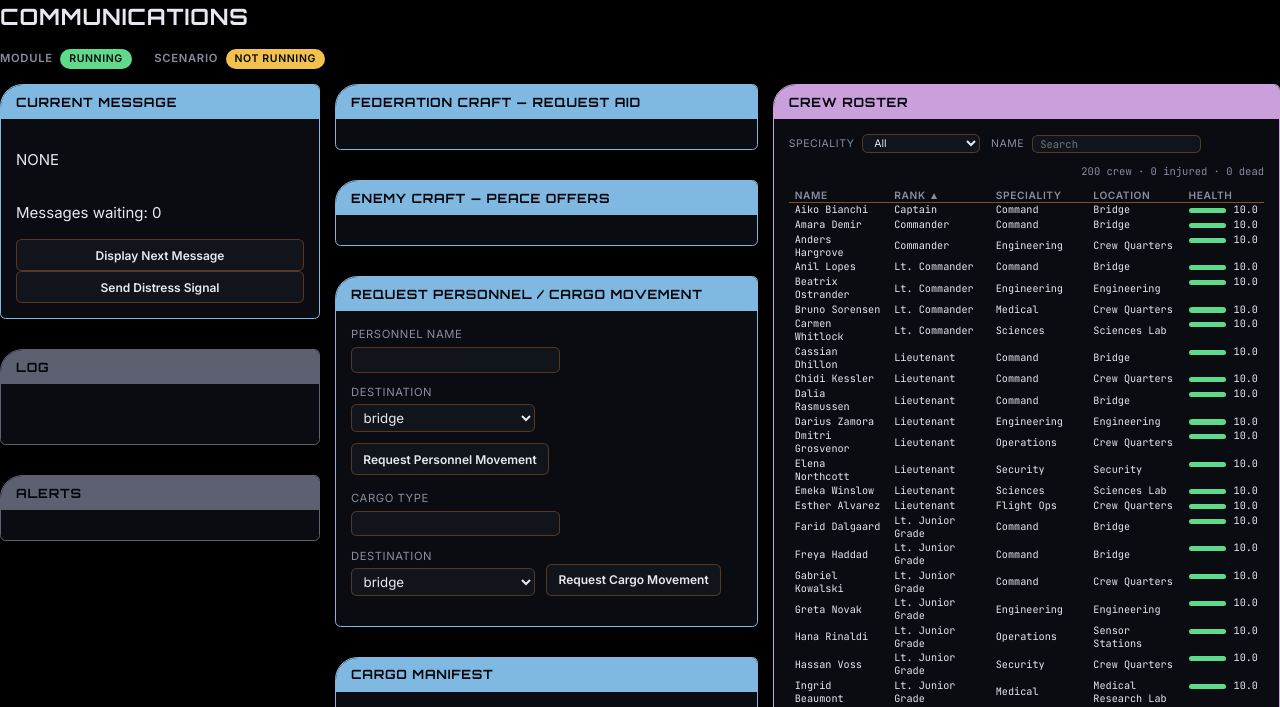
CommunicationsStation › sends a distress message by clicking a button (point-and-click, no typed command)
Click the button "Send Distress Signal": {"x": 160, "y": 287} [16,271,304,303]
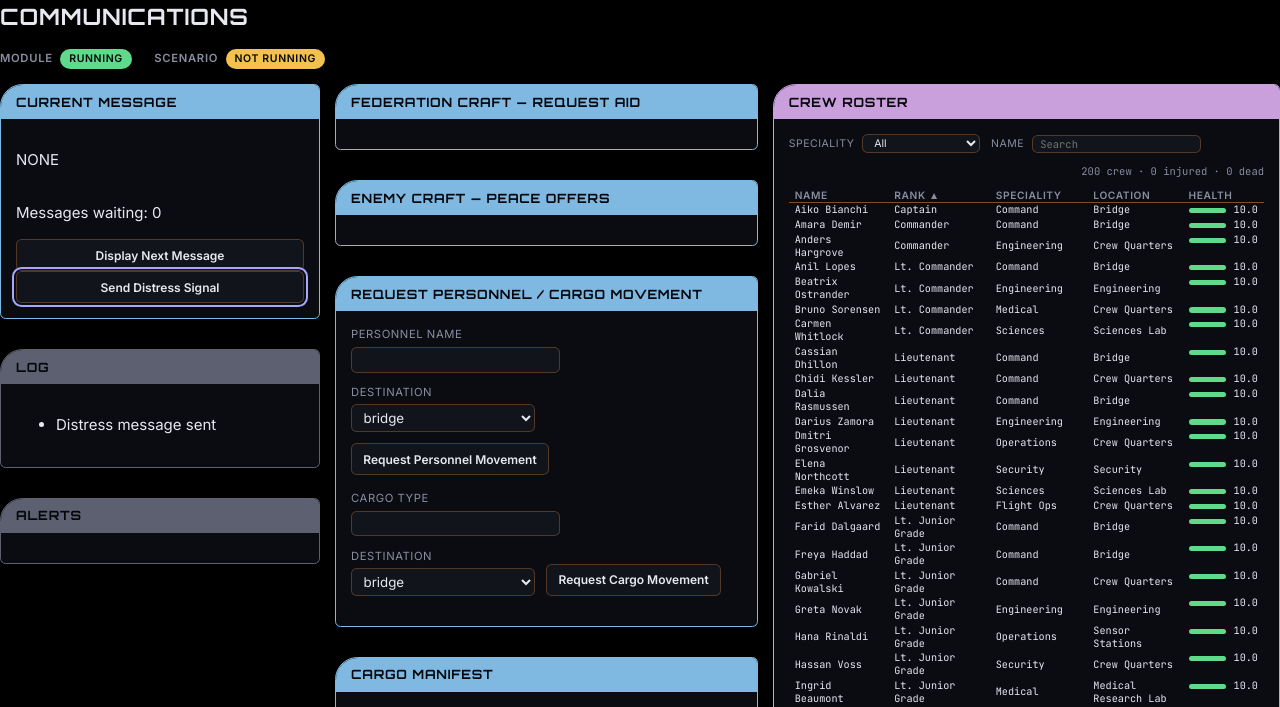
expect the list with test id "comms-log" reads "Distress message sent": met, box [56,415,216,434]
